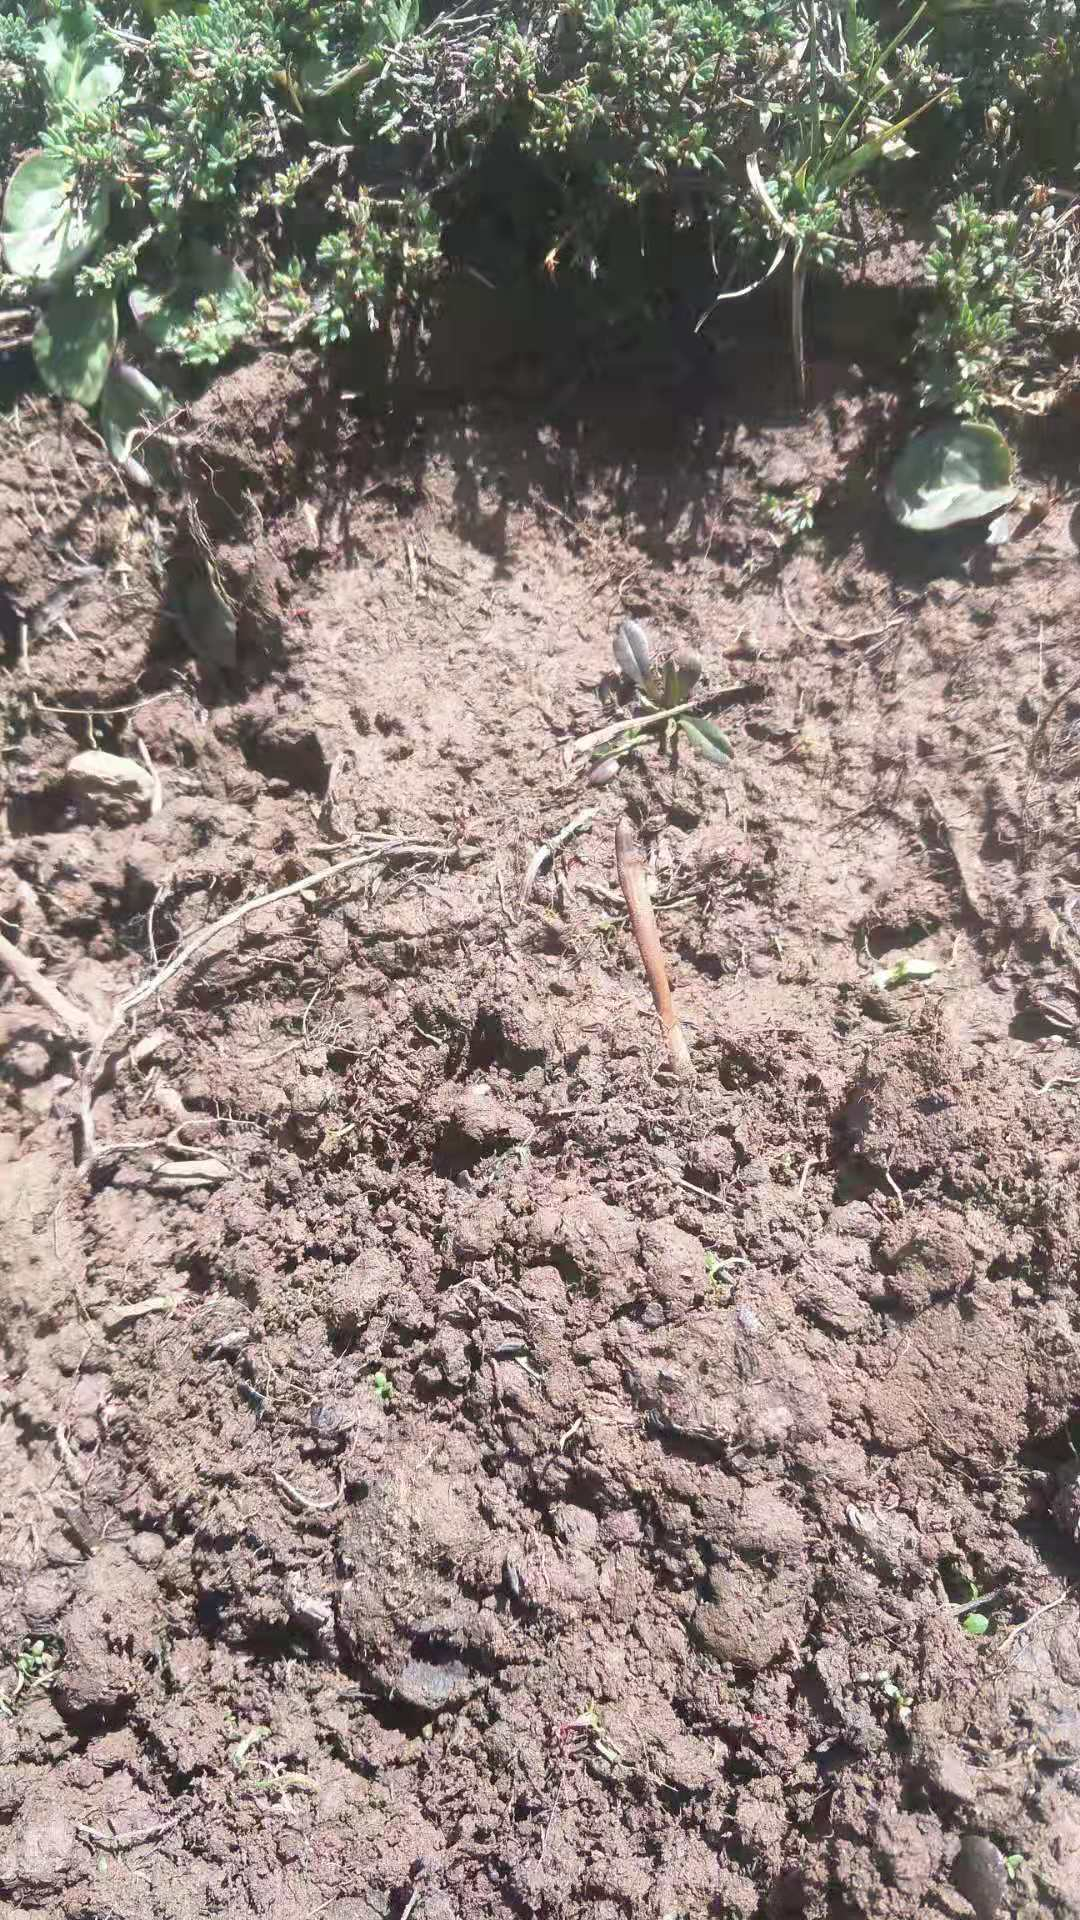cpf: (608, 812, 704, 1087)
